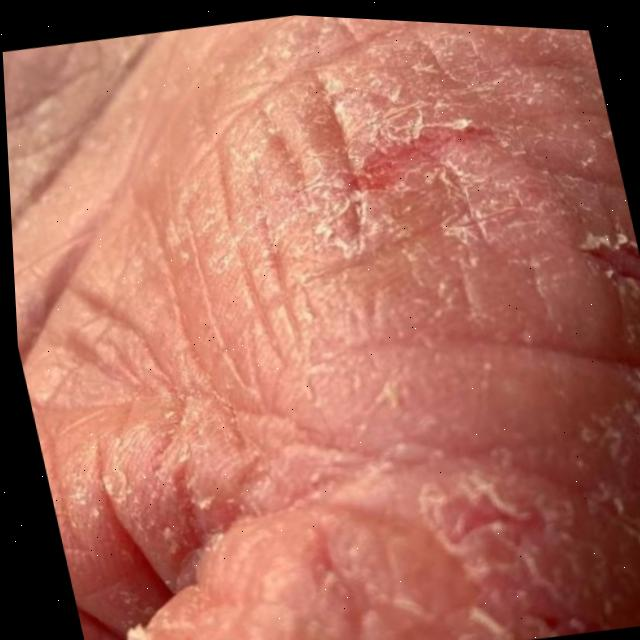Eczema: (106, 33, 640, 640)
